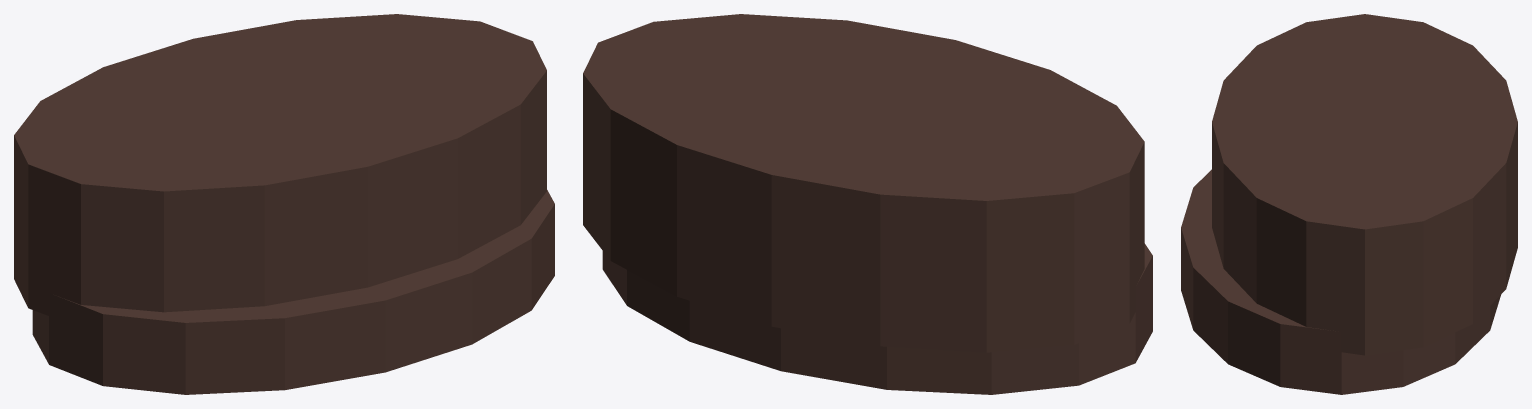
File: party_vip_booth.glb
3 views of the same model, side by side, from view 1: azimuth 30°, elevation 25°; view 2: azimuth 150°, elevation 25°; view 3: azimuth 270°, elevation 25° (orthographic). The views are drawn at different scales.
Parts seen in each view (by area): view 1: Party_VIP_Booth; view 2: Party_VIP_Booth; view 3: Party_VIP_Booth.
Boxes of the visible parts, box(x1,y1,x2,y2) form: Party_VIP_Booth: box(14, 14, 554, 394); Party_VIP_Booth: box(583, 14, 1152, 394); Party_VIP_Booth: box(1181, 14, 1517, 394).
Size of the model in its own units: 3.3 by 1.2 by 2.18.
